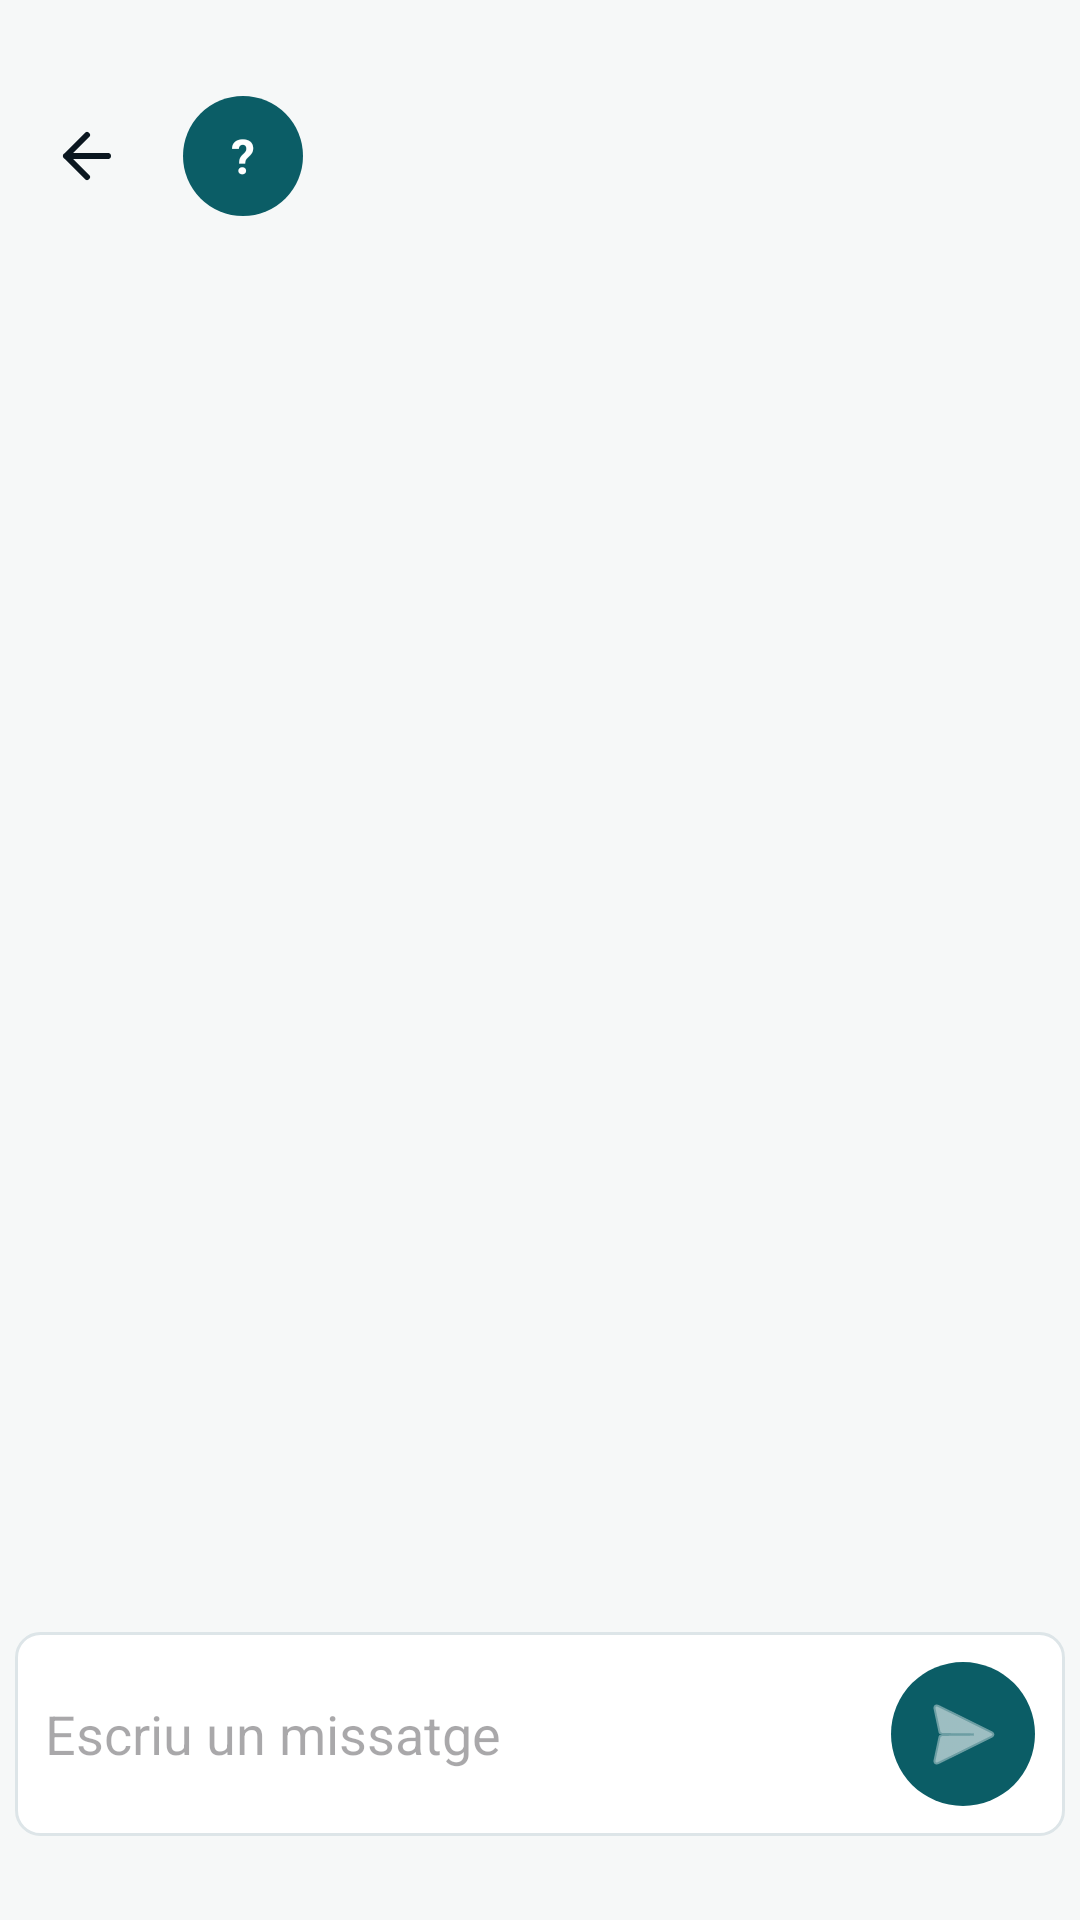

Point at icon controls on the screen. Image size 1080 × 1920, points as (x,y).
Envia: (963,1734)
Torna enrere: (87,156)
